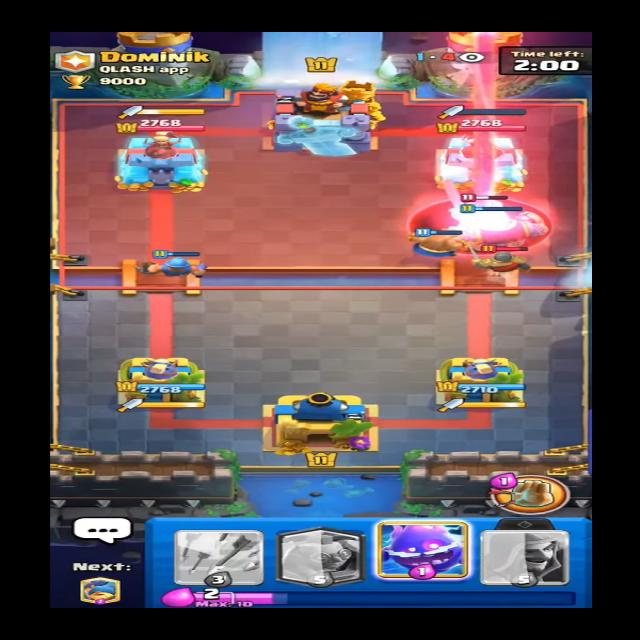guardian: (442, 190, 521, 217)
knight: (469, 244, 539, 275)
